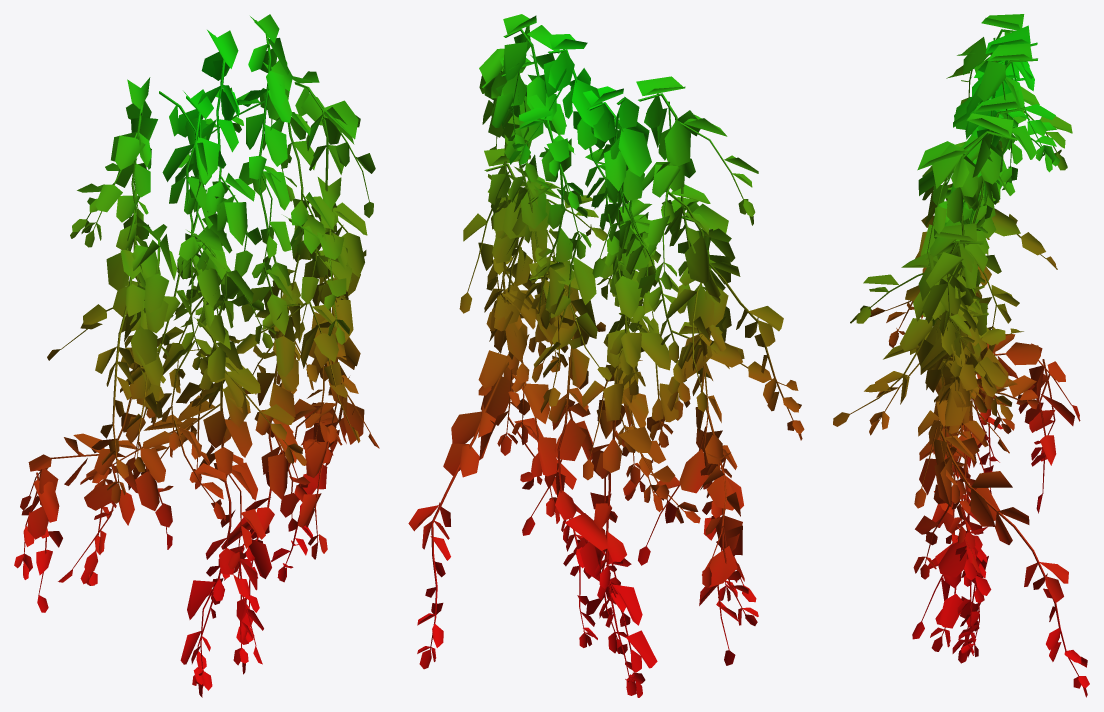
Rendered from Var5_LOD3.fbx.
3 views of the same model, side by side, from view 1: azimuth 30°, elevation 25°; view 2: azimuth 150°, elevation 25°; view 3: azimuth 270°, elevation 25° (orthographic). The views are drawn at different scales.
Visible parts, largest first — view 1: _dxwb_Var5_LOD3; view 2: _dxwb_Var5_LOD3; view 3: _dxwb_Var5_LOD3.
Part boxes in pixels (box(x1,y1,x2,y2)): _dxwb_Var5_LOD3: box(14, 14, 379, 697); _dxwb_Var5_LOD3: box(408, 14, 804, 697); _dxwb_Var5_LOD3: box(833, 14, 1089, 697).
Bounding box in the file's own units: 65.71 × 126 × 44.53.
